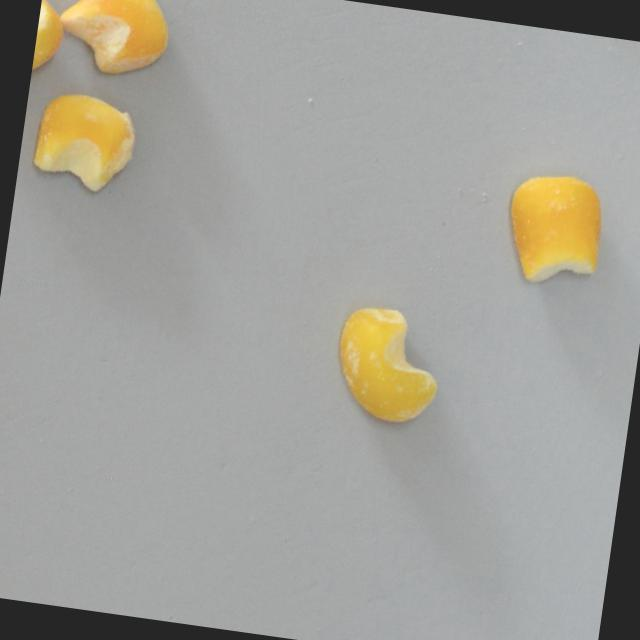no_canjicado: (497, 167, 613, 292)
pelicula: (329, 302, 448, 430), (29, 88, 141, 196), (56, 0, 174, 82), (30, 0, 71, 85)
